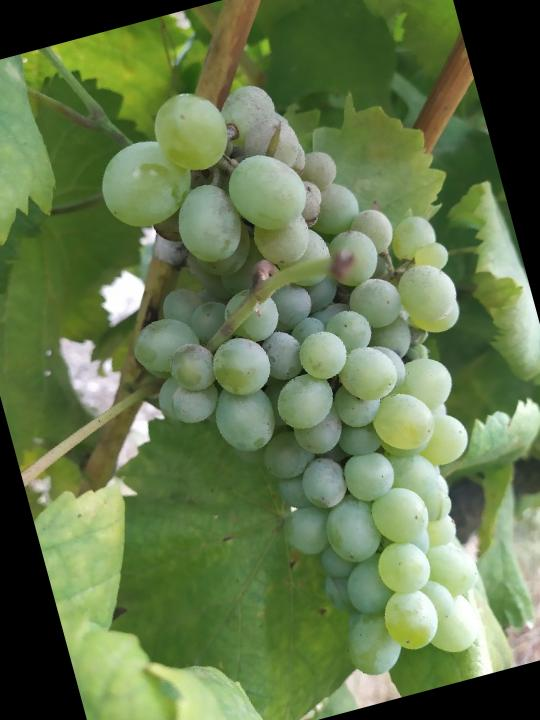grape: (67, 27, 540, 716)
